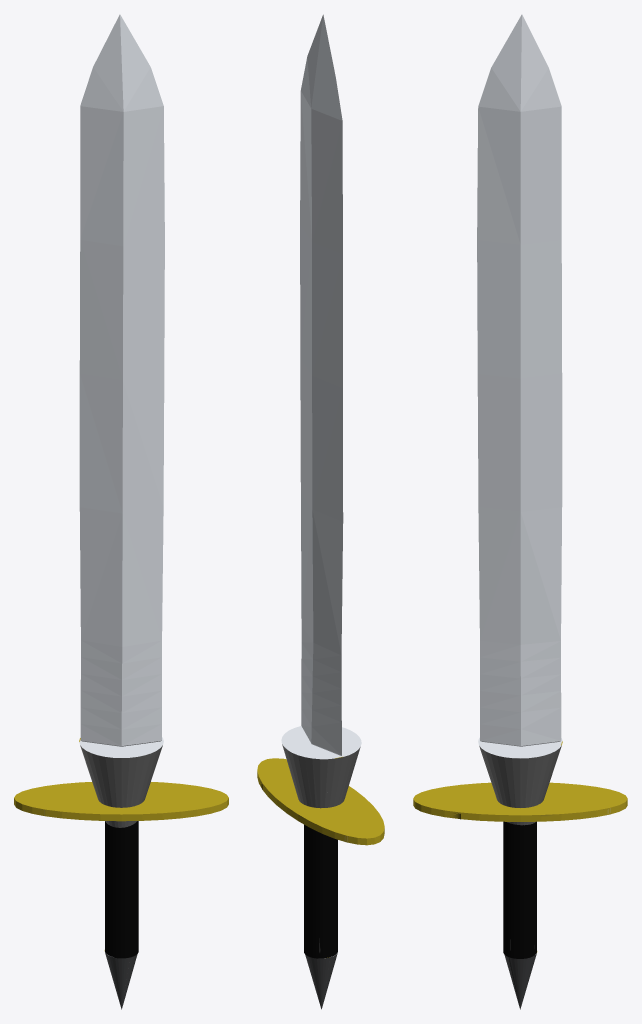
File: Weapon.obj
The picture shows the model from 3 angles, left to right: view 1: azimuth 90°, elevation 25°; view 2: azimuth 210°, elevation 25°; view 3: azimuth 270°, elevation 25°; orthographic projection.
Parts seen in each view (by area): view 1: 円錐; view 2: 円錐; view 3: 円錐.
Boxes of the visible parts, box(x1,y1,x2,y2) form: 円錐: box(14, 14, 228, 1009); 円錐: box(257, 14, 384, 1009); 円錐: box(413, 14, 627, 1009).
Size of the model in its own units: 0.9259 by 12.79 by 2.5.
